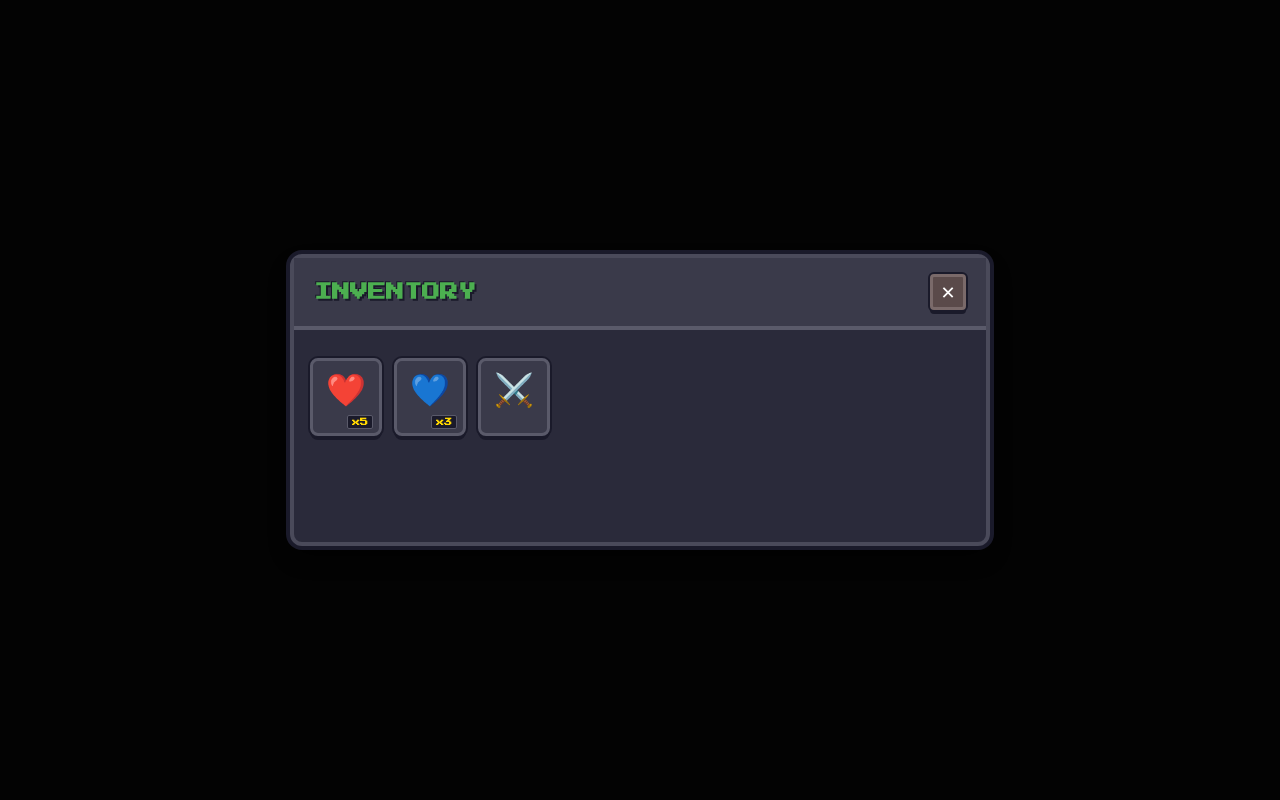
Test: InventoryWindow 컴포넌트 › 아이템 선택 › 아이템 선택 시 상세 정보 표시
The image size is (1280, 800).
What coordinates should you click on to do the following:
click the text "체력 포션"
I would click on:
 (346, 397)
Its box is [310,358,382,436].
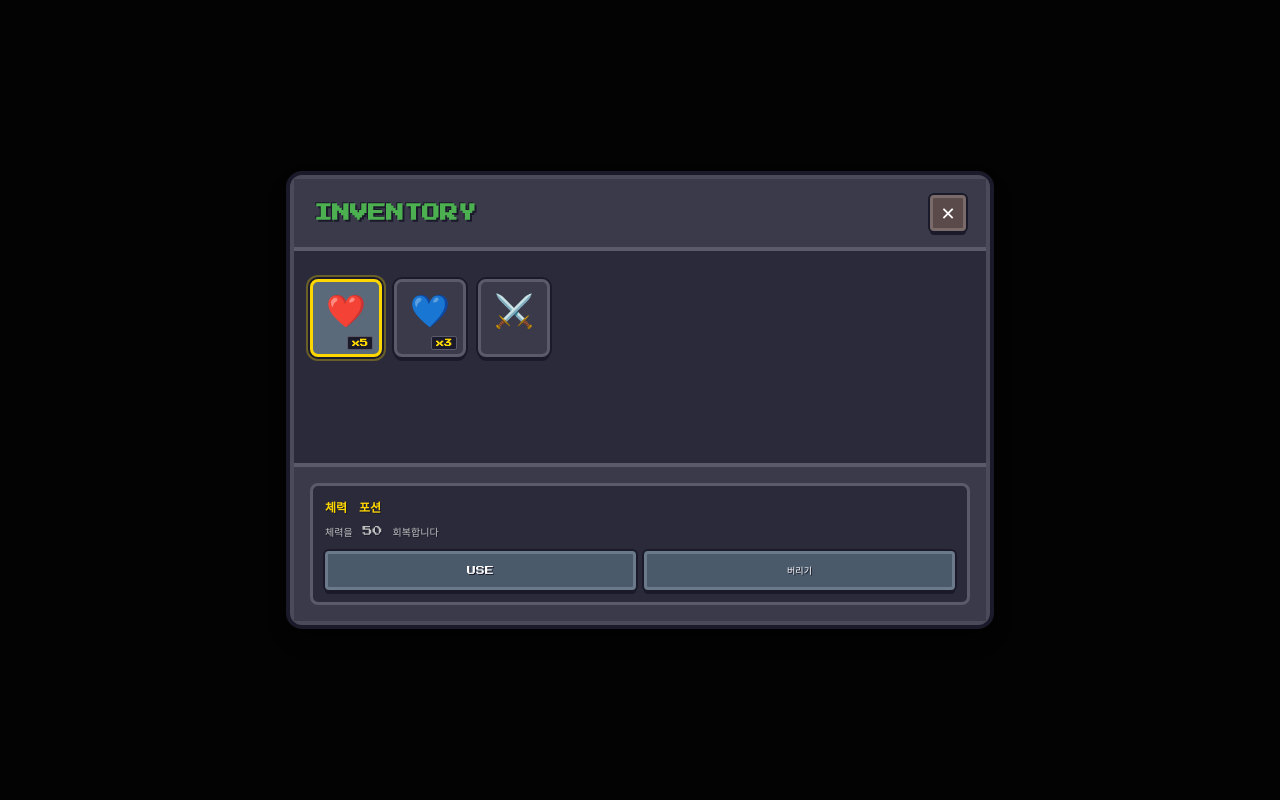
expect the text "체력을 50 회복합니다" is shown: met, box [325,526,439,536]
